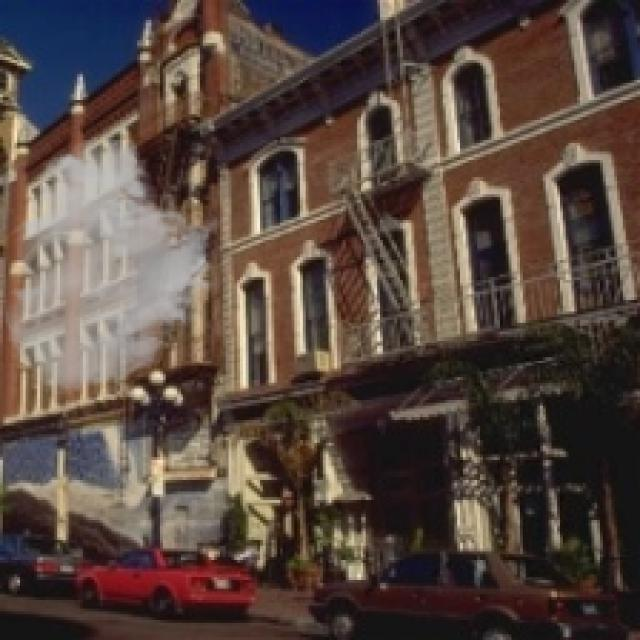Smoke: (3, 134, 223, 397)
